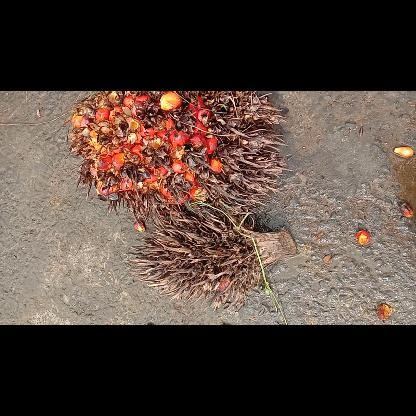Janjang kosong: (124, 218, 296, 312)
Terlalu masak: (66, 90, 290, 226)
